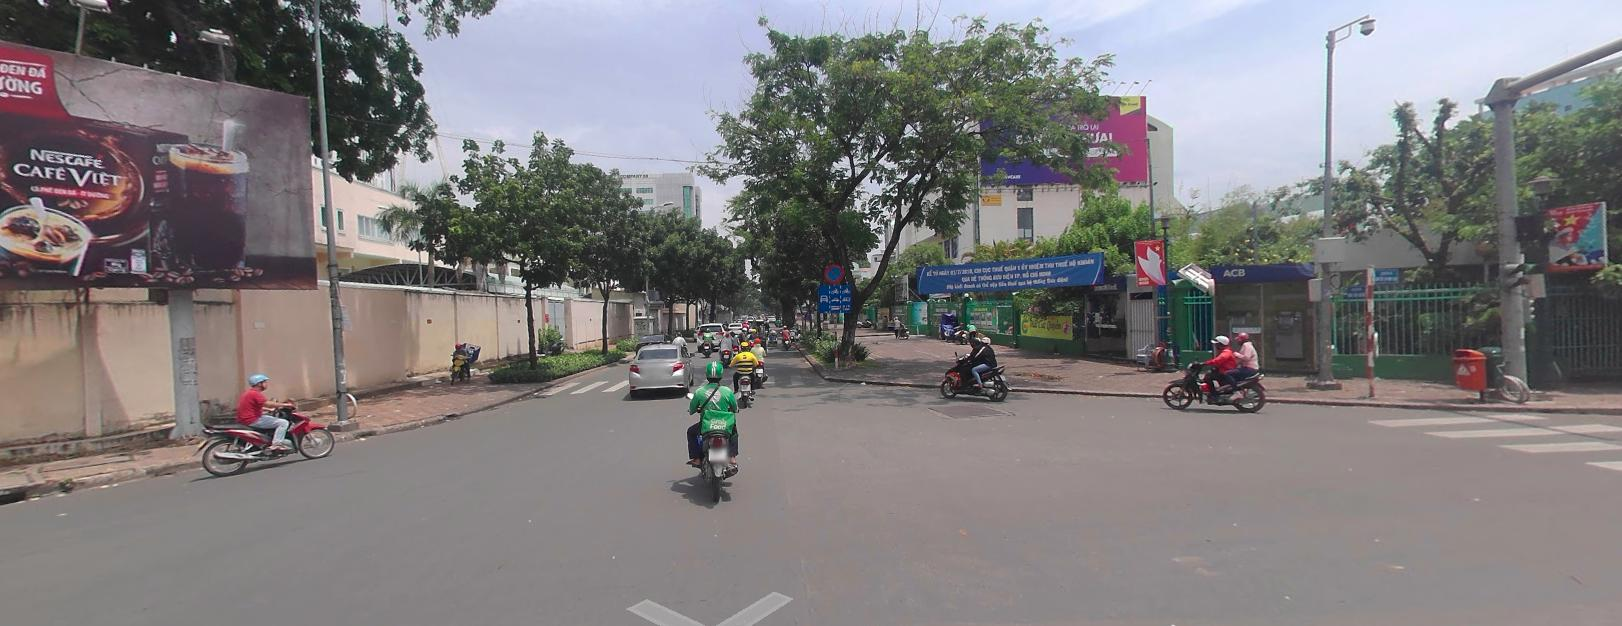Cam dung va do: (823, 261, 845, 282)
